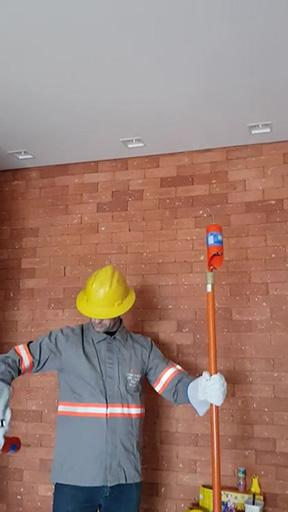Detector_Tensao_Contato: (205, 207, 225, 273)
Vara_Manobra: (203, 271, 223, 512)
